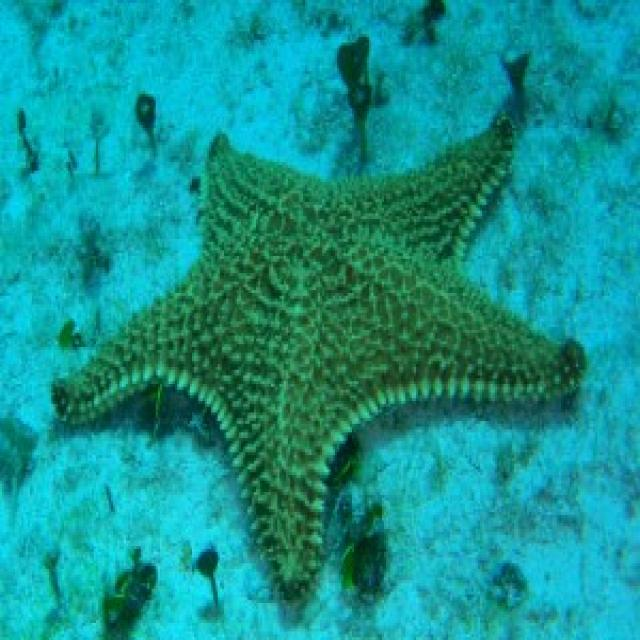Starfish: (46, 106, 613, 609)
